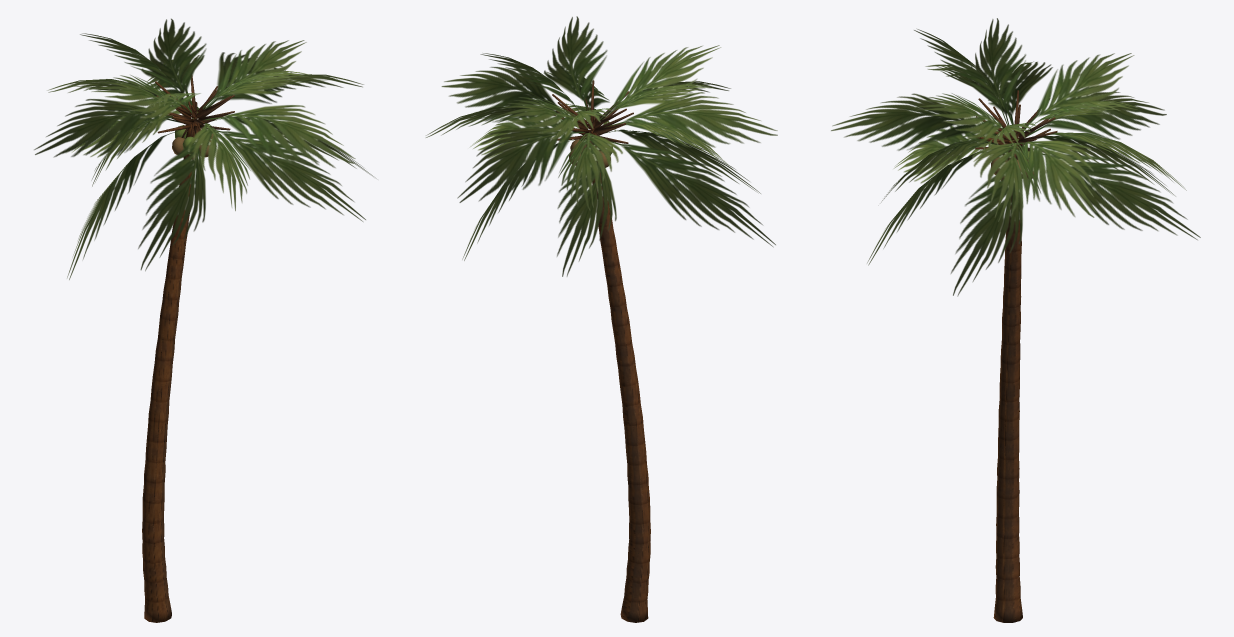
File: tree_palm_coconut.glb
3 renders of one model, left to right at view 1: azimuth 30°, elevation 25°; view 2: azimuth 150°, elevation 25°; view 3: azimuth 270°, elevation 25°, orthographic. The views are drawn at different scales.
Parts seen in each view (by area): view 1: TreeCanopy_Palm, TreeBark_Palm; view 2: TreeCanopy_Palm, TreeBark_Palm; view 3: TreeCanopy_Palm, TreeBark_Palm.
Part boxes in pixels (<box>): TreeCanopy_Palm: <box>34,18,376,279</box>; TreeBark_Palm: <box>142,75,234,622</box>; TreeCanopy_Palm: <box>426,16,777,276</box>; TreeBark_Palm: <box>552,80,650,622</box>; TreeCanopy_Palm: <box>831,18,1200,296</box>; TreeBark_Palm: <box>975,90,1057,622</box>.
Size of the model in its own units: 6.06 by 10.08 by 6.37.
Materials: 2 (2 with a texture image).
